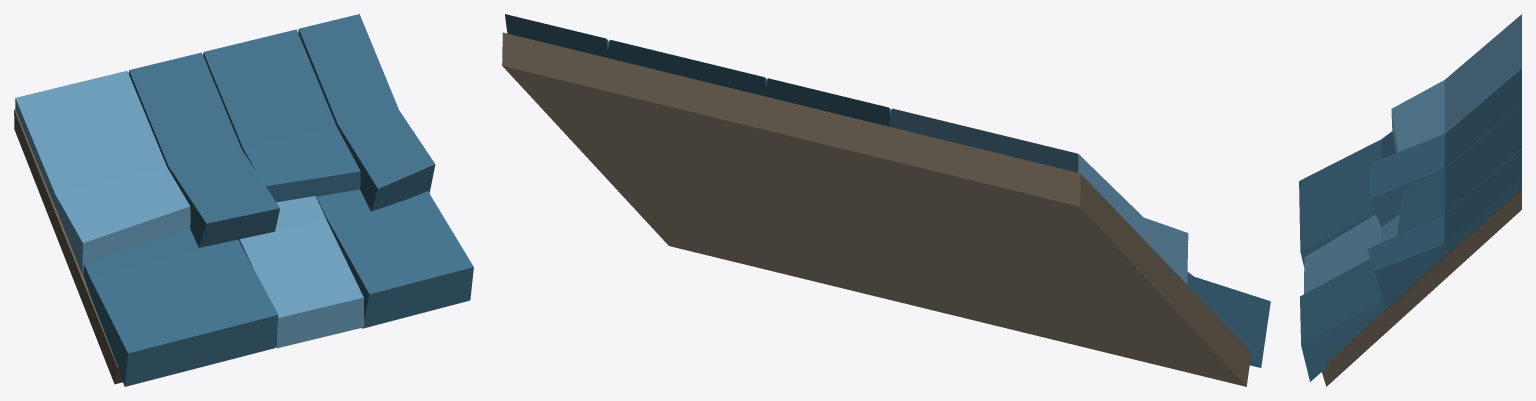
Rendered from ROOF_base_small_1.fbx.
3 views of the same model, side by side, from view 1: azimuth 30°, elevation 25°; view 2: azimuth 150°, elevation 25°; view 3: azimuth 270°, elevation 25° (orthographic). The views are drawn at different scales.
Visible parts, largest first — view 1: ROOF_base_small_1; view 2: ROOF_base_small_1; view 3: ROOF_base_small_1.
Boxes of the visible parts, box(x1,y1,x2,y2) form: ROOF_base_small_1: box(14, 14, 473, 386); ROOF_base_small_1: box(502, 14, 1270, 386); ROOF_base_small_1: box(1299, 14, 1521, 386).
Bounding box in the file's own units: 100 × 58.7 × 57.
